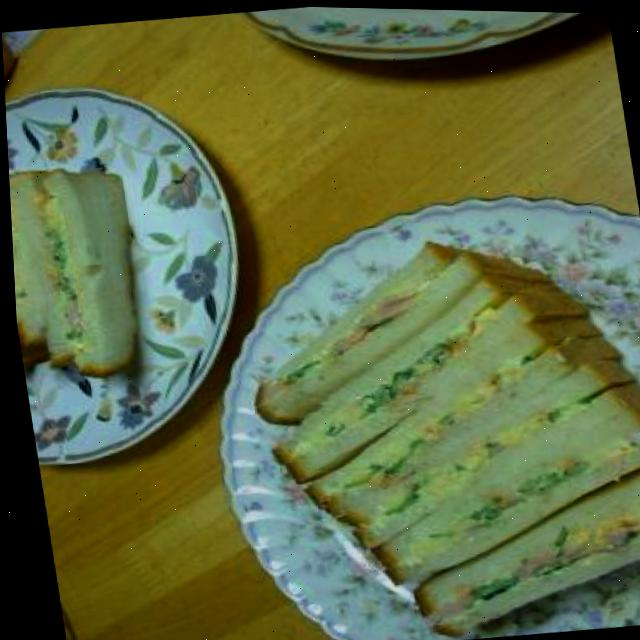三明治: (222, 214, 640, 640)
